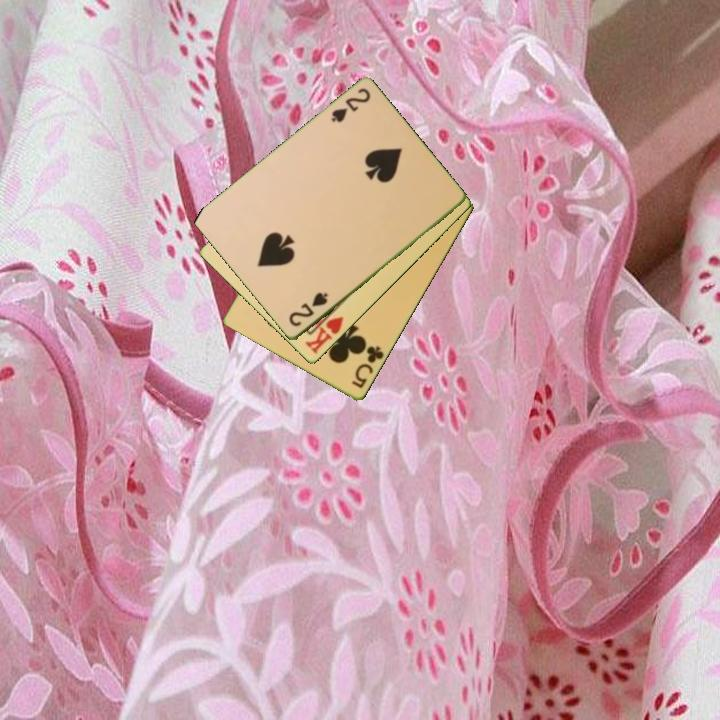2s: (285, 289, 331, 330), (327, 85, 373, 126)
5c: (348, 342, 387, 392)
Kh: (302, 304, 347, 357)
